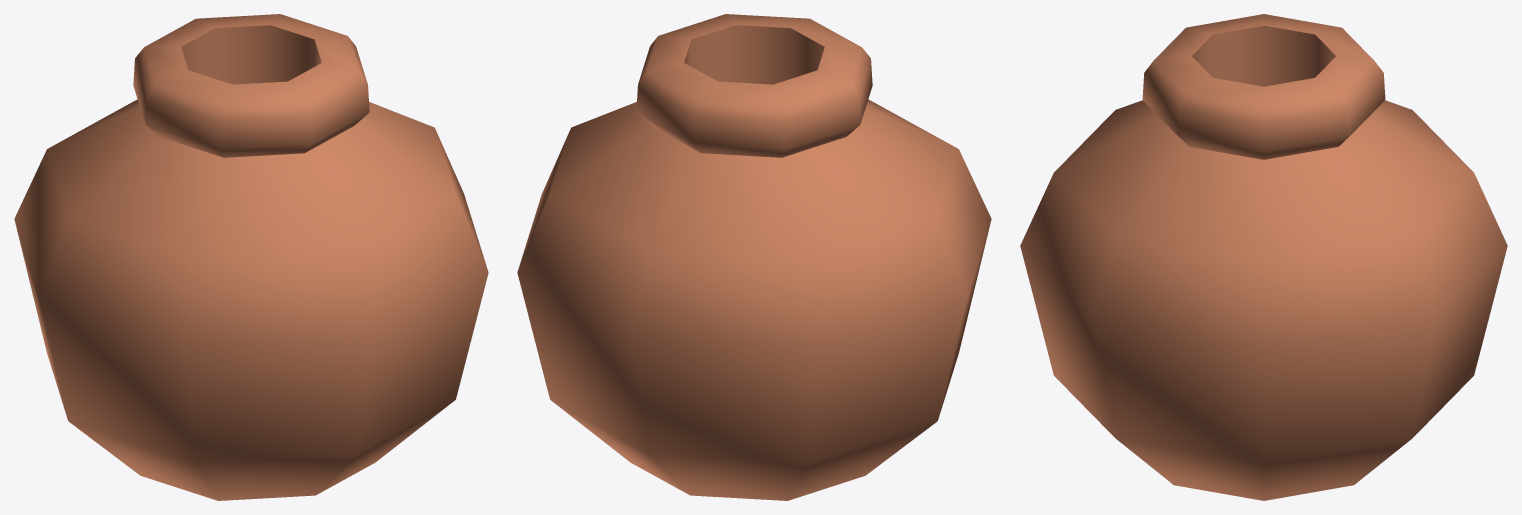
Rendered from Jar2_decoration.fbx.
3 renders of one model, left to right at view 1: azimuth 30°, elevation 25°; view 2: azimuth 150°, elevation 25°; view 3: azimuth 270°, elevation 25°, orthographic.
Parts seen in each view (by area): view 1: Jar2_decoration; view 2: Jar2_decoration; view 3: Jar2_decoration.
Part boxes in pixels (x1,y1,x2,y2): Jar2_decoration: [14, 14, 488, 500]; Jar2_decoration: [517, 14, 991, 500]; Jar2_decoration: [1020, 14, 1507, 500].
Size of the model in its own units: 146 by 129 by 146.
